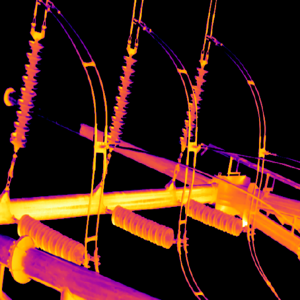insulator: (15, 211, 83, 264), (10, 38, 42, 148), (111, 204, 173, 250), (105, 55, 135, 146), (180, 58, 208, 149), (186, 196, 243, 236)
